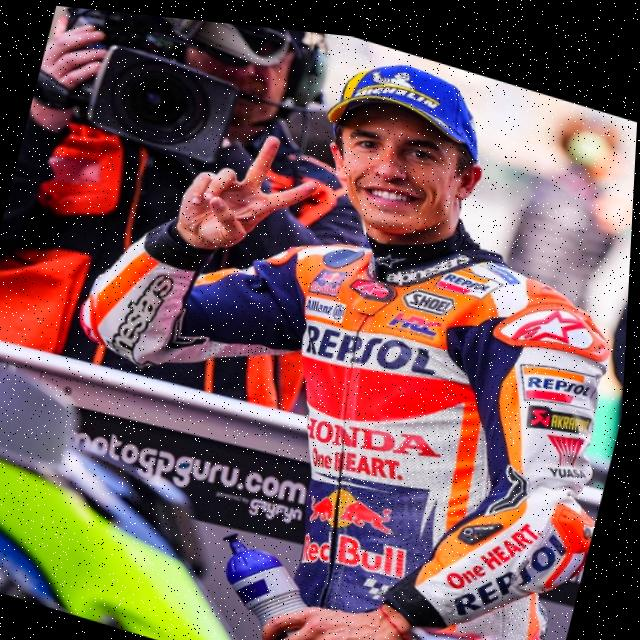illegal_helmet: (298, 30, 508, 254)
